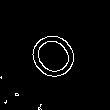O_NW: (11, 14, 78, 80)
